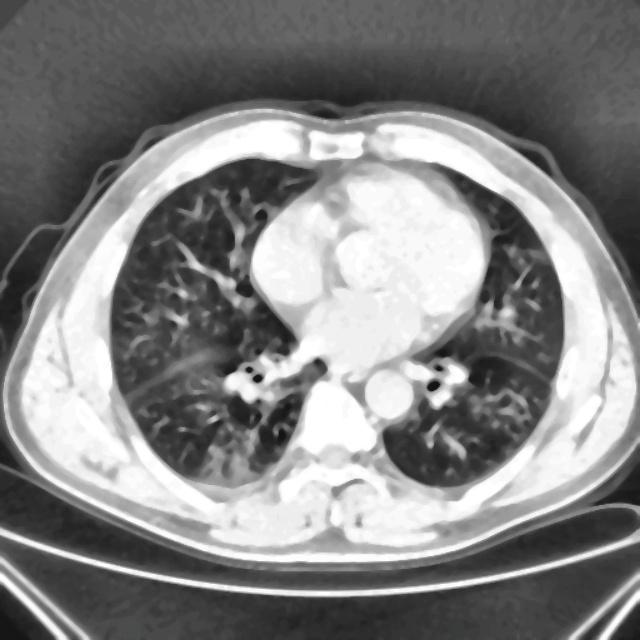covid: (1, 98, 638, 571)
